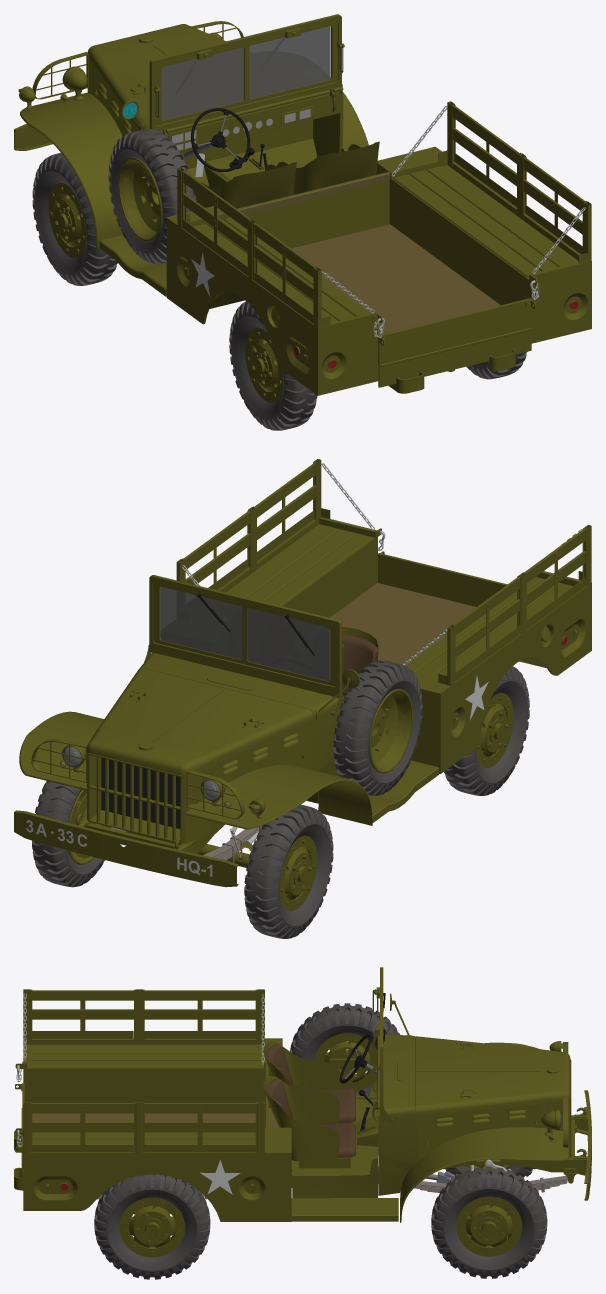
File: dodge-wc-51-truck.fbx
3 views of the same model, one above another, from view 1: azimuth 30°, elevation 25°; view 2: azimuth 150°, elevation 25°; view 3: azimuth 270°, elevation 25° (orthographic). The views are drawn at different scales.
Visible parts, largest first — view 1: hood_1_1, cab_1_1, fglas_1_1, bseat_1_1, dropside_1_1, paralamas1, network_1_1, pneu5, pneu3, pneu4, capot1_1_1, bseat3_1_1 (+14 smaller); view 2: hood_1_1, capot1_1_1, nose_1_1, fglas_1_1, cab_1_1, frame_1_1, pneu3, bseat_1_1, network_1_1, paralamas1, pneu5, pneu4 (+13 smaller); view 3: hood_1_1, cab_1_1, capot1_1_1, bseat_1_1, pneu1, pneu2, paralamas2, bseat1_1_1, bseat3_1_1, seat_1_2, Group5, Group6 (+11 smaller).
Boxes of the visible parts, left/top/right/bottom form: hood_1_1: left=166, top=101, right=591, bottom=395; cab_1_1: left=94, top=69, right=345, bottom=194; fglas_1_1: left=161, top=26, right=330, bottom=120; bseat_1_1: left=193, top=166, right=572, bottom=322; dropside_1_1: left=378, top=298, right=535, bottom=387; paralamas1: left=20, top=92, right=122, bottom=248; network_1_1: left=149, top=14, right=344, bottom=136; pneu5: left=108, top=128, right=196, bottom=264; pneu3: left=32, top=152, right=117, bottom=285; pneu4: left=229, top=301, right=317, bottom=430; capot1_1_1: left=95, top=33, right=225, bottom=128; bseat3_1_1: left=452, top=105, right=585, bottom=234; hood_1_1: left=176, top=459, right=591, bottom=773; capot1_1_1: left=96, top=668, right=313, bottom=765; nose_1_1: left=86, top=729, right=209, bottom=843; fglas_1_1: left=160, top=586, right=330, bottom=681; cab_1_1: left=138, top=653, right=385, bottom=830; frame_1_1: left=14, top=810, right=238, bottom=887; pneu3: left=244, top=804, right=333, bottom=938; bseat_1_1: left=233, top=527, right=571, bottom=682; network_1_1: left=144, top=575, right=344, bottom=716; paralamas1: left=185, top=764, right=372, bottom=829; pneu5: left=333, top=660, right=422, bottom=795; pneu4: left=444, top=666, right=529, bottom=795; hood_1_1: left=15, top=989, right=291, bottom=1221; cab_1_1: left=291, top=1033, right=540, bottom=1198; capot1_1_1: left=415, top=1036, right=540, bottom=1115; bseat_1_1: left=32, top=1047, right=262, bottom=1150; pneu1: left=431, top=1166, right=547, bottom=1278; pneu2: left=94, top=1174, right=210, bottom=1279; paralamas2: left=400, top=1127, right=568, bottom=1222; bseat1_1_1: left=30, top=990, right=256, bottom=1019; bseat3_1_1: left=30, top=1103, right=256, bottom=1132; seat_1_2: left=263, top=1076, right=356, bottom=1168; Group5: left=456, top=1196, right=522, bottom=1256; Group6: left=119, top=1197, right=185, bottom=1257.
Size of the model in its own units: 2.01 by 1.83 by 4.25.
